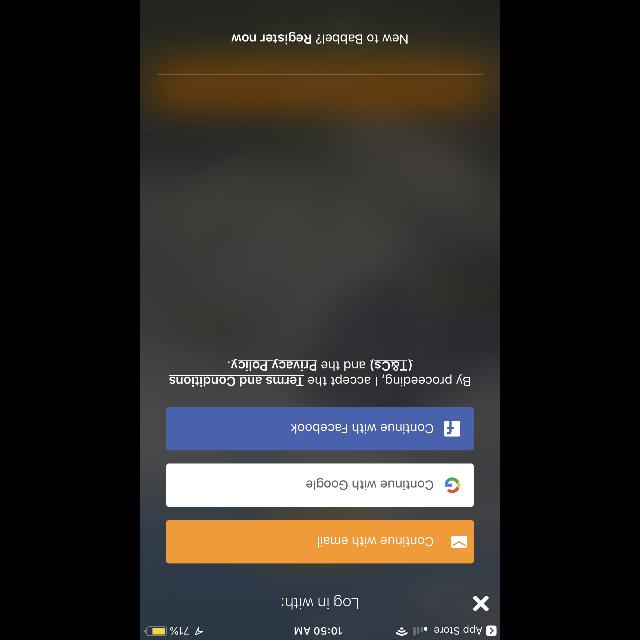icon: (473, 595, 489, 611)
text: (168, 359, 470, 387), (231, 32, 407, 44), (282, 594, 358, 610)
textbutton: (166, 519, 474, 563), (166, 408, 474, 450), (166, 464, 474, 506)
uppertaskbar: (140, 624, 500, 640)
